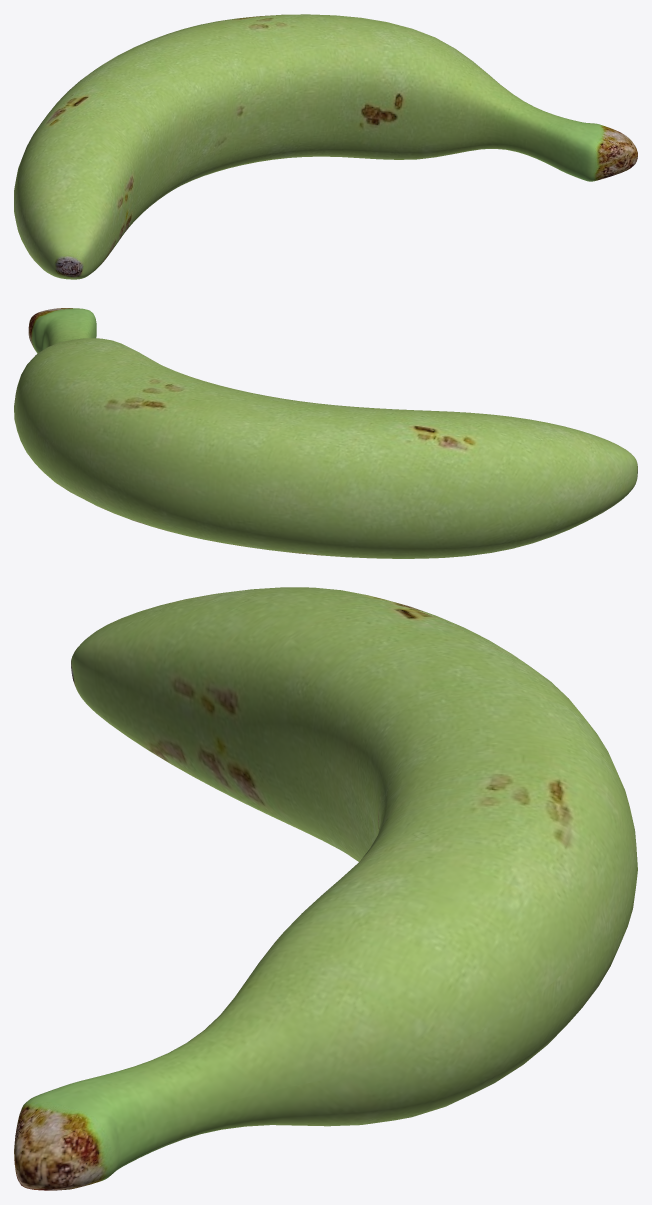
The model's file is green_banana.fbx.
3 views of the same model, one above another, from view 1: azimuth 30°, elevation 25°; view 2: azimuth 150°, elevation 25°; view 3: azimuth 270°, elevation 25° (orthographic). The views are drawn at different scales.
Parts seen in each view (by area): view 1: GreenBananaExocarp; view 2: GreenBananaExocarp; view 3: GreenBananaExocarp.
Boxes of the visible parts, x1=… form: GreenBananaExocarp: x1=14, y1=14, x2=637, y2=279; GreenBananaExocarp: x1=14, y1=308, x2=637, y2=558; GreenBananaExocarp: x1=14, y1=587, x2=637, y2=1190.
Size of what is drawn, in the model's own units: 20.23 by 10.6 by 4.37.
